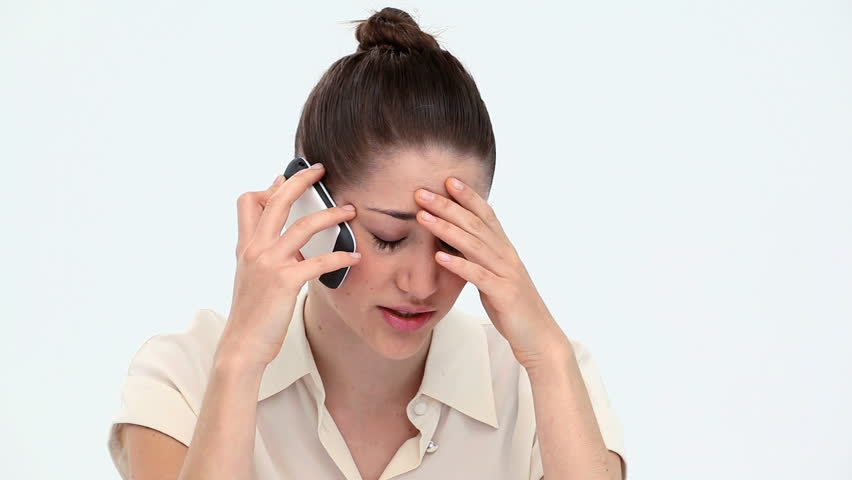phone: (230, 163, 359, 304)
talk: (226, 153, 478, 380)
